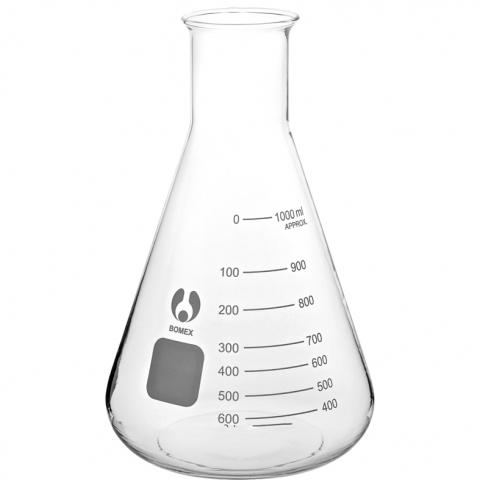Titrarion: (106, 14, 390, 468)
